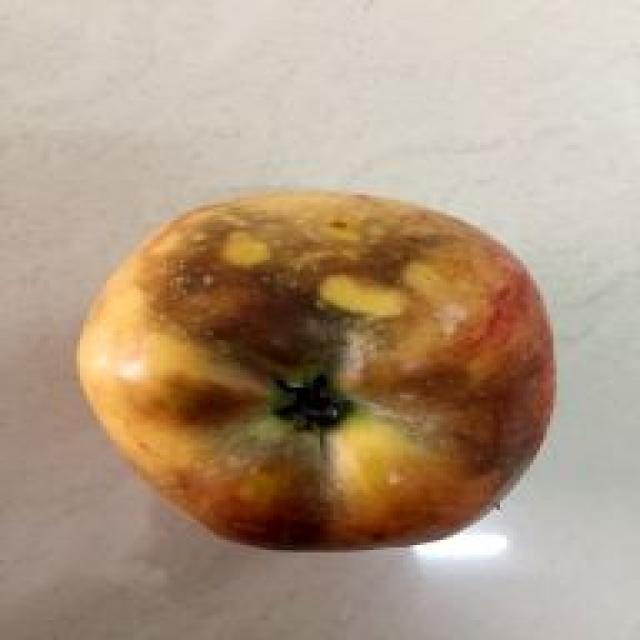Bad_Apple: (82, 195, 553, 549)
